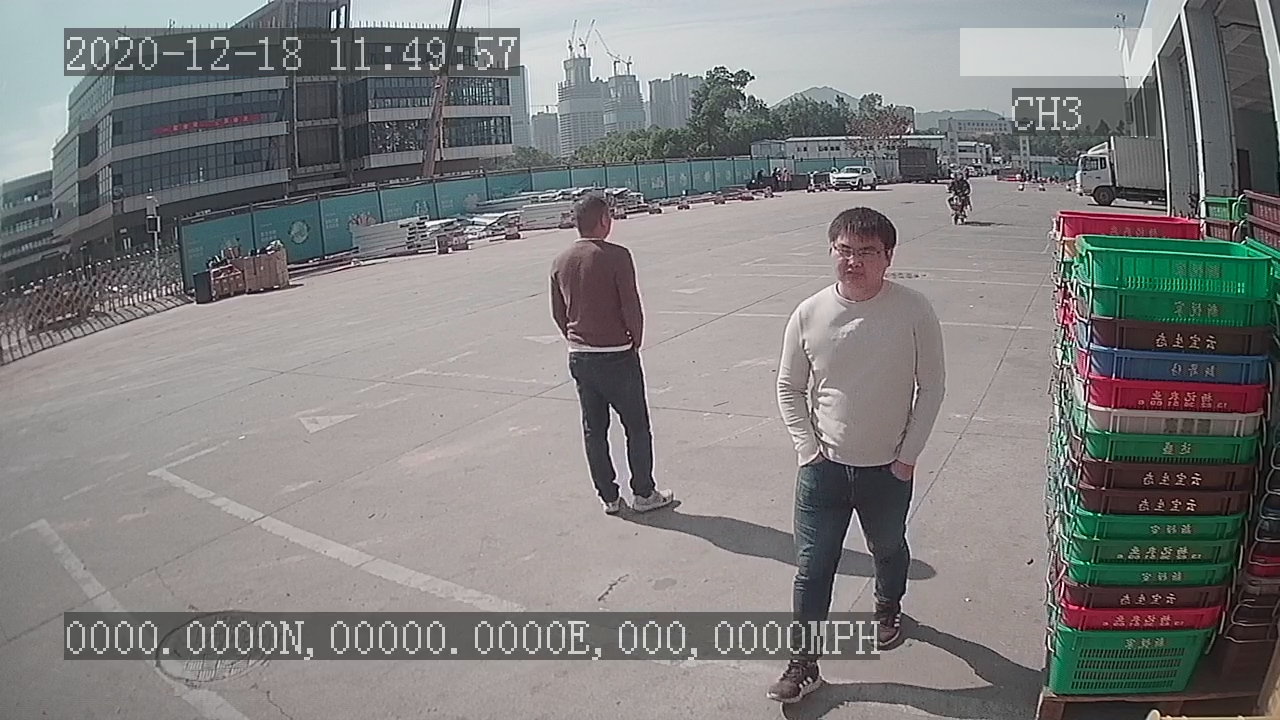person: (547, 194, 681, 520)
